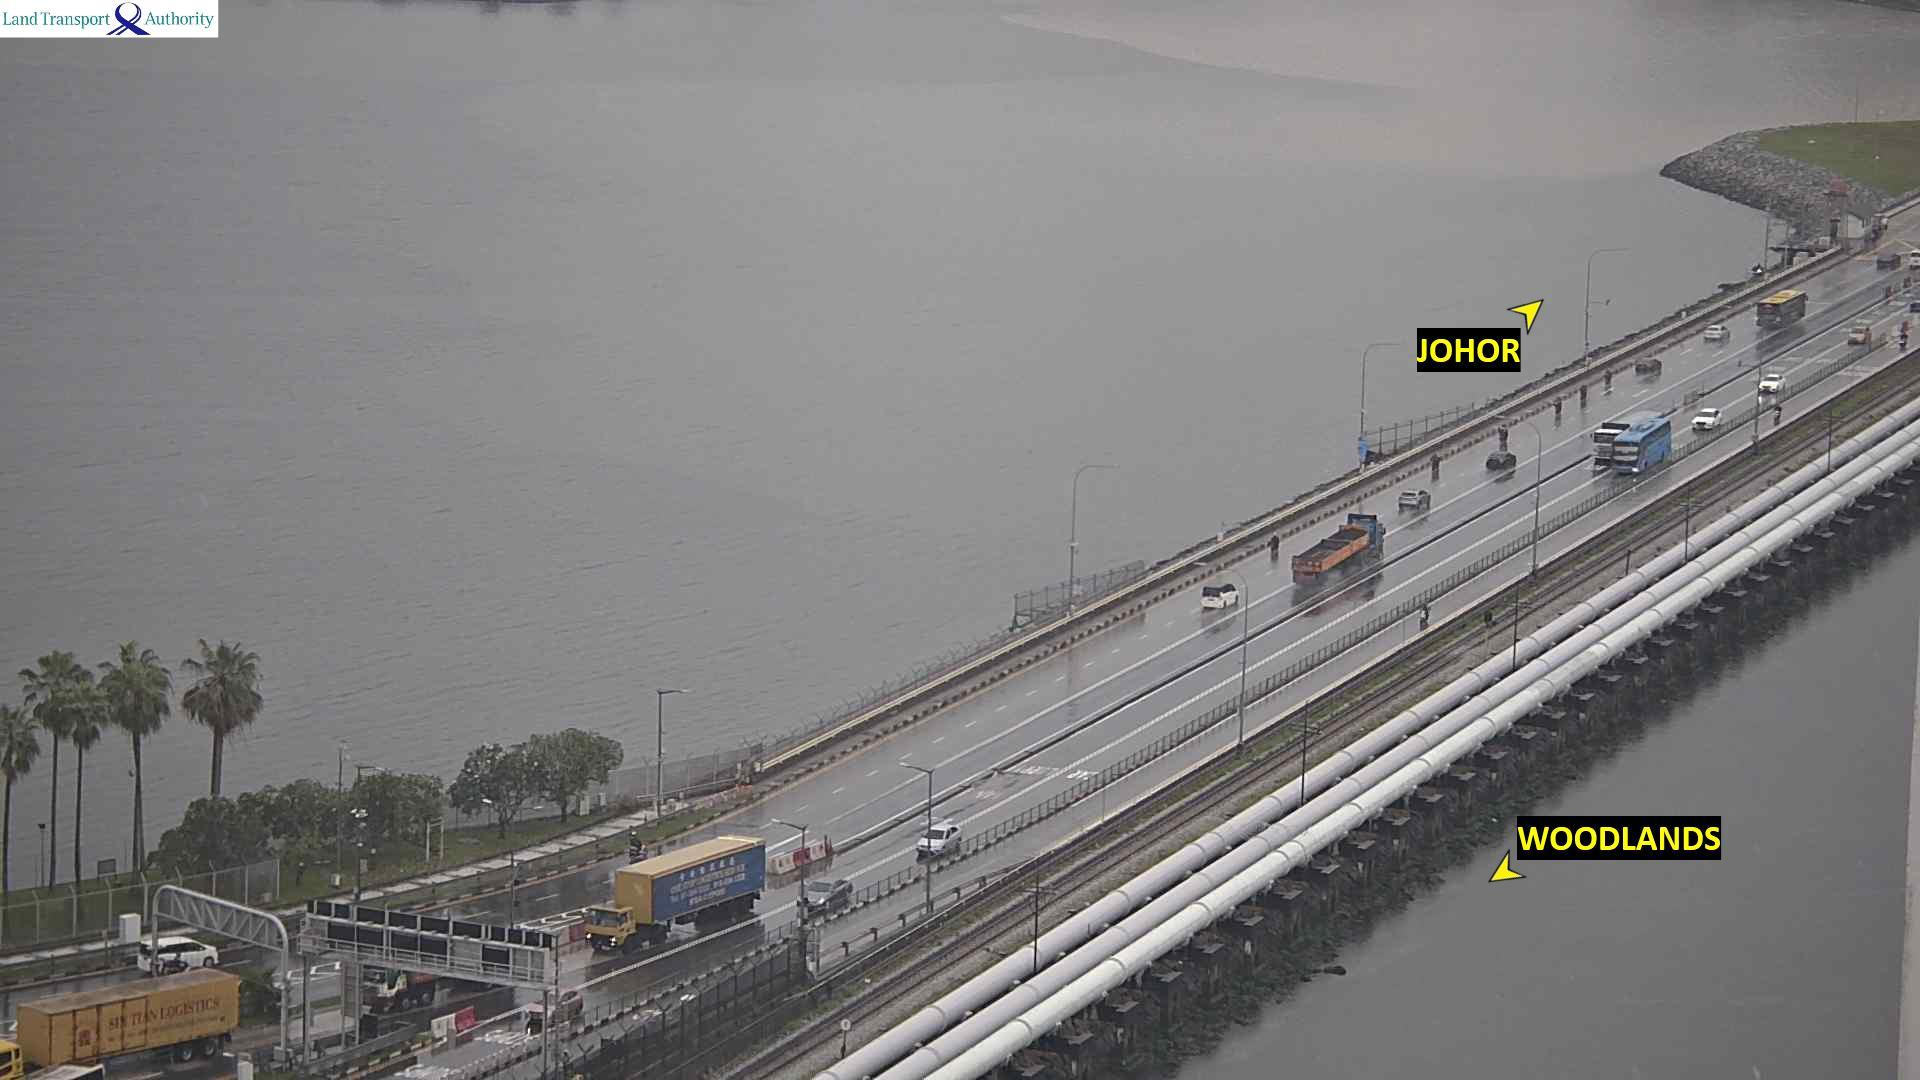vehicle-causeway-johor: (1292, 514, 1383, 588), (138, 938, 227, 973), (1760, 291, 1808, 324), (1199, 582, 1240, 608), (1394, 488, 1428, 513), (1631, 356, 1658, 378), (1643, 359, 1668, 381), (628, 831, 645, 861), (1490, 451, 1516, 469), (1706, 322, 1729, 342), (1879, 252, 1903, 269)
vehicle-causeway-singapore: (0, 968, 240, 1080), (587, 839, 762, 955), (1593, 413, 1662, 464), (1611, 418, 1672, 476), (524, 988, 583, 1026), (800, 877, 851, 910), (916, 824, 965, 857), (1689, 409, 1724, 431), (1759, 373, 1785, 392), (1849, 326, 1871, 344)
